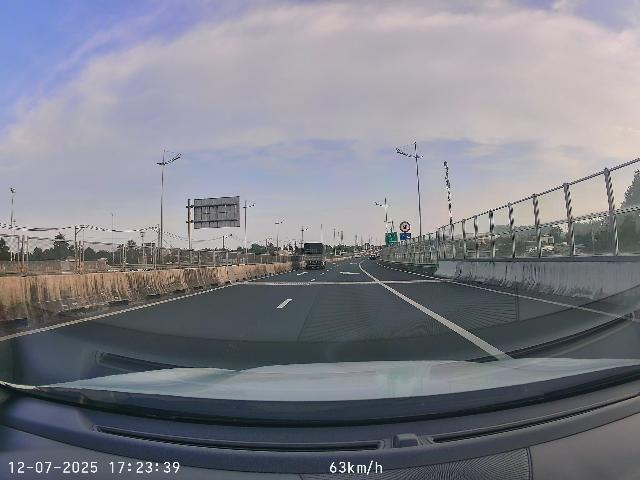127-toc-do-toi-da-60: (399, 221, 411, 233)
